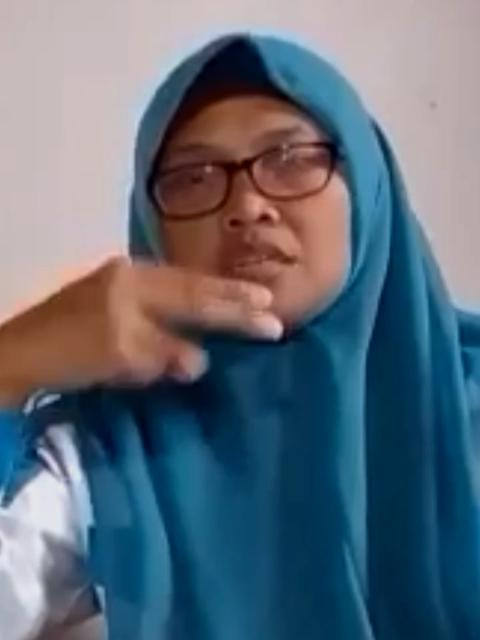H: (0, 253, 282, 393)
